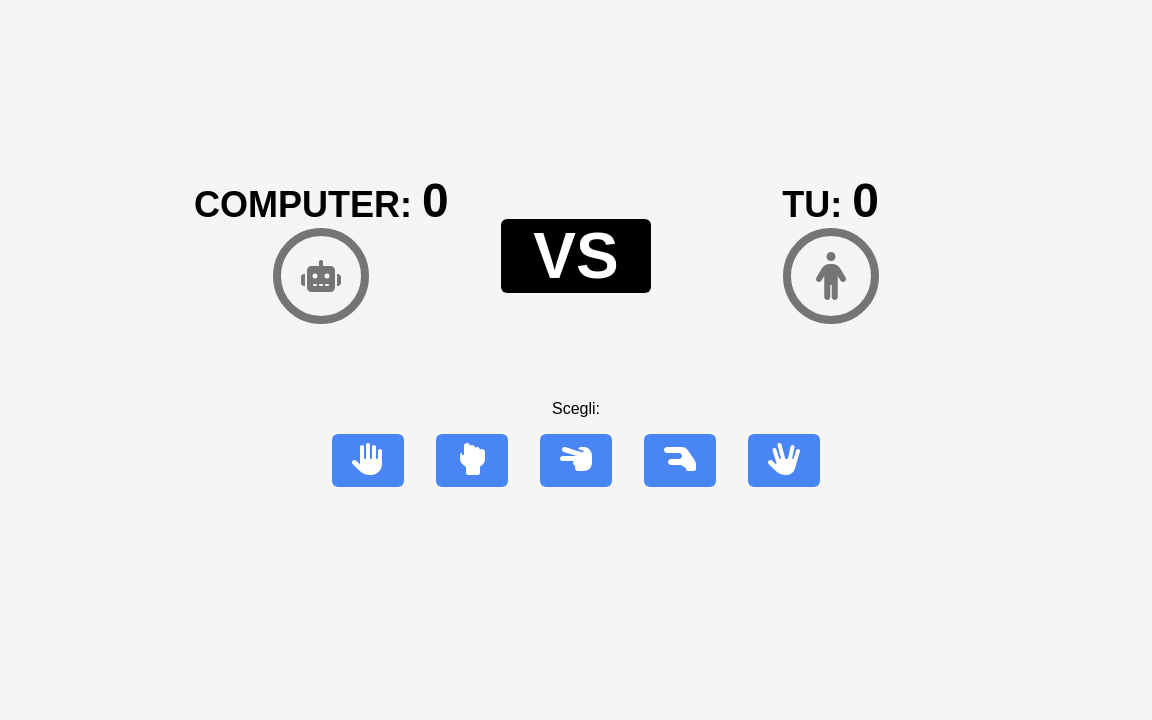
Game › should result in 'sasso' losing to 'carta'
Click the button with test id "button-sasso" at (472, 461), box [436,434,508,487]
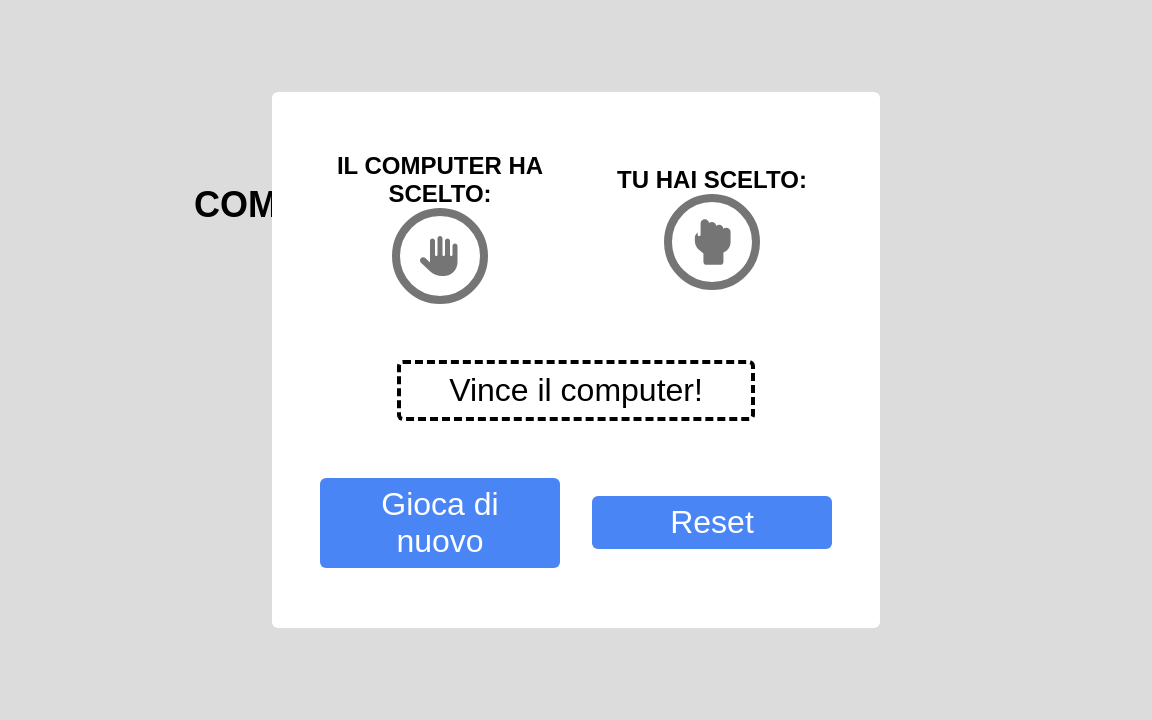
expect the dialog with test id "dialog" is shown: met, box [272,92,880,628]
expect the text "Vince il computer!" is shown: met, box [397,360,755,422]
